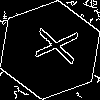X: (25, 25, 79, 65)
